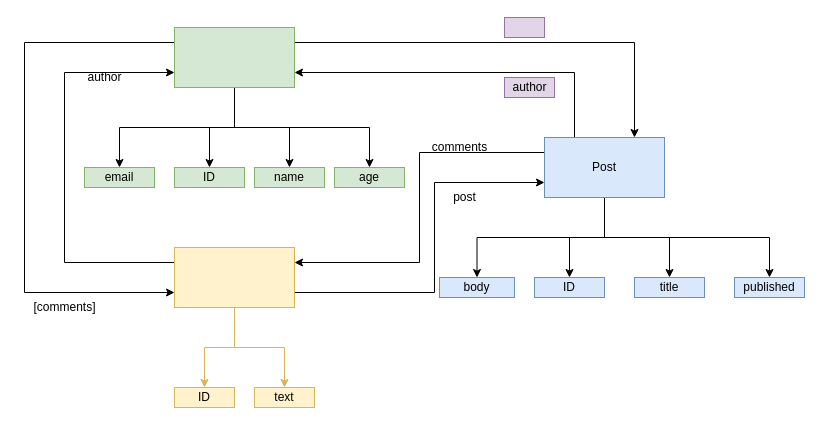
The diagram is 822 pixels wide and 425 high, and some of its shapes have lost their labels. The shapes that lost their labels are listed below. From the top down, each one's box as (x1, y1, x2, y2) in pixels, then its label:
(504, 16, 544, 38): posts
(174, 26, 294, 88): User
(174, 246, 294, 308): Comment
